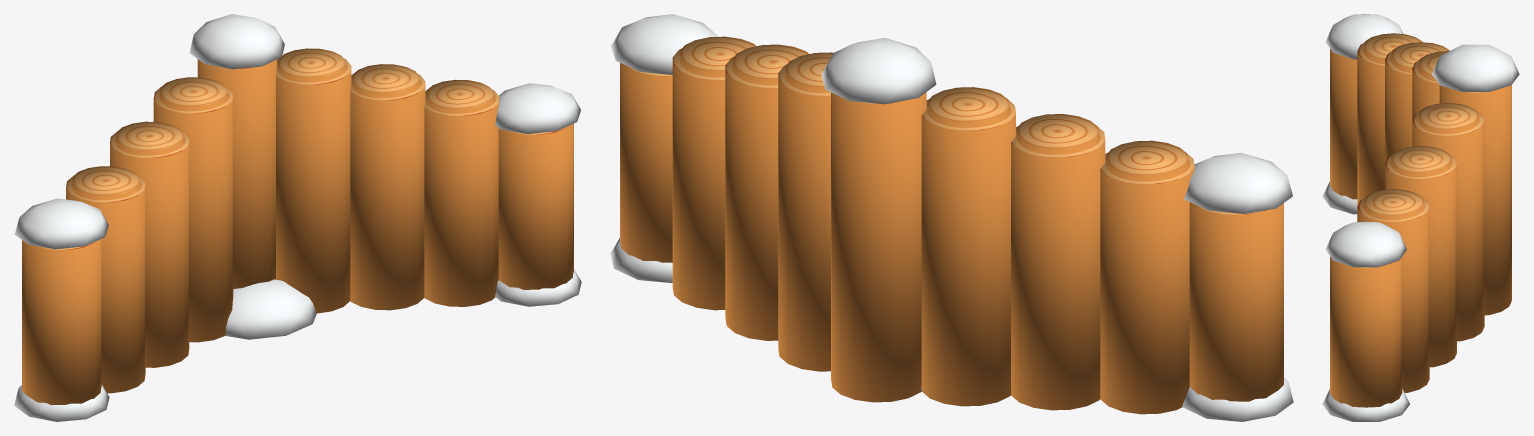
The model's file is LogWall_Corner.glb.
The picture shows the model from 3 angles, left to right: view 1: azimuth 30°, elevation 25°; view 2: azimuth 150°, elevation 25°; view 3: azimuth 270°, elevation 25°; orthographic projection. The views are drawn at different scales.
Parts seen in each view (by area): view 1: LogWall_Log_06, LogWall_Log_07, LogWall_Log_08, LogWall_Log_04, LogWall_Log_01, LogWall_Log_03, LogWall_Log_09, LogWall_Log_02, LogWall_Log_05, LogWall_Snow_Ground, LogWall_Snow_Apex, LogWall_Snow_Left (+3 smaller); view 2: LogWall_Log_04, LogWall_Log_05, LogWall_Log_03, LogWall_Log_02, LogWall_Log_01, LogWall_Log_06, LogWall_Log_07, LogWall_Log_08, LogWall_Log_09, LogWall_Snow_Apex, LogWall_Snow_Left, LogWall_Snow_Right (+2 smaller); view 3: LogWall_Log_09, LogWall_Log_06, LogWall_Log_07, LogWall_Log_05, LogWall_Log_08, LogWall_Log_02, LogWall_Log_01, LogWall_Log_03, LogWall_Snow_Apex, LogWall_Snow_Right, LogWall_Snow_Left, LogWall_Snow_RightCuff (+2 smaller).
Boxes of the visible parts, left/top/right/bottom form: LogWall_Log_06: left=276, top=48, right=351, bottom=313; LogWall_Log_07: left=350, top=64, right=425, bottom=310; LogWall_Log_08: left=424, top=79, right=499, bottom=306; LogWall_Log_04: left=153, top=77, right=233, bottom=342; LogWall_Log_01: left=22, top=239, right=101, bottom=405; LogWall_Log_03: left=110, top=121, right=189, bottom=367; LogWall_Log_09: left=498, top=123, right=573, bottom=289; LogWall_Log_02: left=66, top=166, right=145, bottom=393; LogWall_Log_05: left=197, top=59, right=276, bottom=288; LogWall_Snow_Ground: left=225, top=279, right=316, bottom=339; LogWall_Snow_Apex: left=189, top=14, right=284, bottom=69; LogWall_Snow_Left: left=14, top=198, right=108, bottom=249; LogWall_Log_04: left=921, top=87, right=1015, bottom=406; LogWall_Log_05: left=831, top=92, right=926, bottom=402; LogWall_Log_03: left=1011, top=114, right=1105, bottom=410; LogWall_Log_02: left=1100, top=140, right=1194, bottom=414; LogWall_Log_01: left=1189, top=202, right=1283, bottom=401; LogWall_Log_06: left=778, top=52, right=833, bottom=371; LogWall_Log_07: left=725, top=44, right=808, bottom=340; LogWall_Log_08: left=672, top=36, right=756, bottom=310; LogWall_Log_09: left=620, top=63, right=672, bottom=262; LogWall_Snow_Apex: left=821, top=37, right=936, bottom=104; LogWall_Snow_Left: left=1184, top=152, right=1292, bottom=213; LogWall_Snow_Right: left=611, top=14, right=718, bottom=74; LogWall_Log_09: left=1330, top=256, right=1402, bottom=407; LogWall_Log_06: left=1412, top=103, right=1484, bottom=341; LogWall_Log_07: left=1385, top=146, right=1456, bottom=367; LogWall_Log_05: left=1439, top=85, right=1511, bottom=315; LogWall_Log_08: left=1357, top=189, right=1429, bottom=393; LogWall_Log_02: left=1357, top=33, right=1422, bottom=206; LogWall_Log_01: left=1330, top=48, right=1357, bottom=199; LogWall_Log_03: left=1385, top=42, right=1449, bottom=162; LogWall_Snow_Apex: left=1431, top=44, right=1519, bottom=91; LogWall_Snow_Right: left=1325, top=221, right=1406, bottom=267; LogWall_Snow_Left: left=1325, top=14, right=1403, bottom=59; LogWall_Snow_RightCuff: left=1322, top=389, right=1409, bottom=421.
Bounding box in the file's own units: 1.83 × 0.885 × 0.628.
3 materials, 1 textured.
